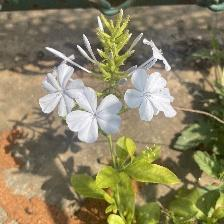chitrak: (67, 86, 129, 145), (126, 69, 175, 123), (44, 64, 84, 117), (146, 36, 176, 72)
